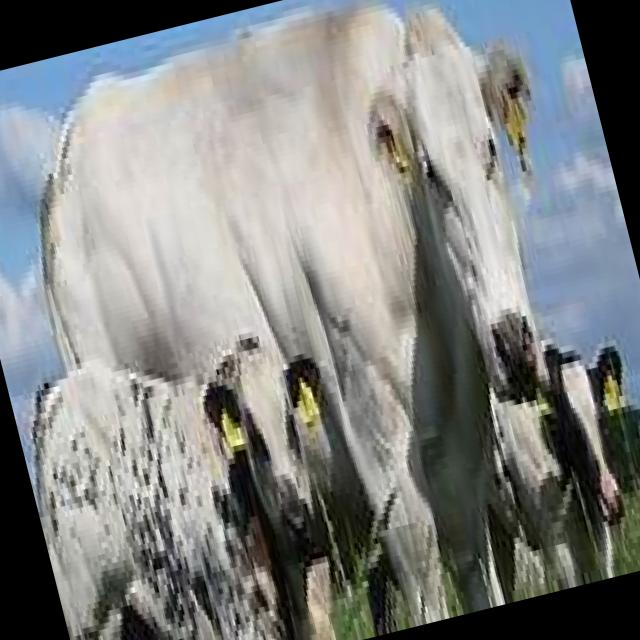cow: (0, 0, 640, 640), (4, 301, 383, 640), (454, 327, 640, 601)
